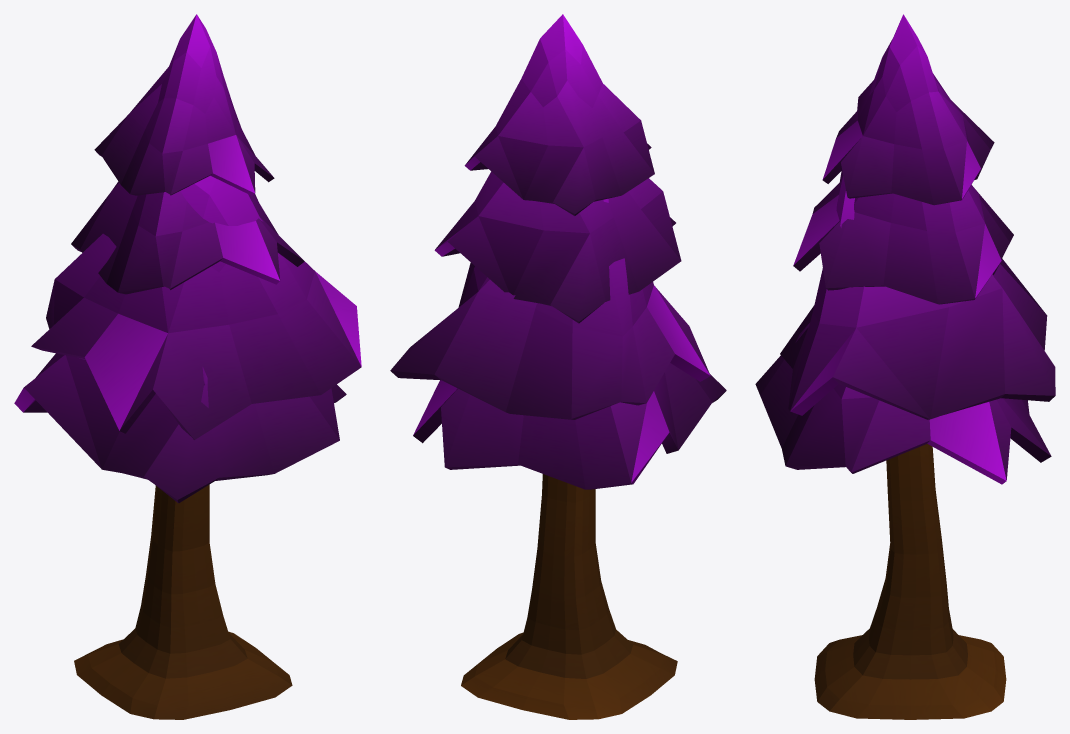
The model's file is Tree_1.fbx.
The picture shows the model from 3 angles, left to right: view 1: azimuth 30°, elevation 25°; view 2: azimuth 150°, elevation 25°; view 3: azimuth 270°, elevation 25°; orthographic projection. The views are drawn at different scales.
Visible parts, largest first — view 1: Plane.001, Cube, Plane, Plane.003, Plane.002; view 2: Plane.001, Cube, Plane.002, Plane.003, Plane; view 3: Plane.001, Cube, Plane.002, Plane.003, Plane.
Boxes of the visible parts, bbox=[...] form: Plane.001: bbox=[31, 175, 361, 439]; Cube: bbox=[74, 484, 292, 719]; Plane: bbox=[14, 353, 346, 503]; Plane.003: bbox=[94, 14, 274, 195]; Plane.002: bbox=[71, 181, 304, 294]; Plane.001: bbox=[390, 198, 710, 419]; Cube: bbox=[461, 474, 677, 719]; Plane.002: bbox=[434, 171, 681, 323]; Plane.003: bbox=[464, 14, 654, 215]; Plane: bbox=[413, 363, 726, 489]; Plane.001: bbox=[780, 176, 1055, 419]; Cube: bbox=[814, 444, 1006, 719]; Plane.002: bbox=[793, 170, 1013, 304]; Plane.003: bbox=[822, 14, 994, 205]; Plane: bbox=[755, 322, 1051, 484].
Size of the model in its own units: 130 by 312 by 126.
Materials: 1 (1 with a texture image).
